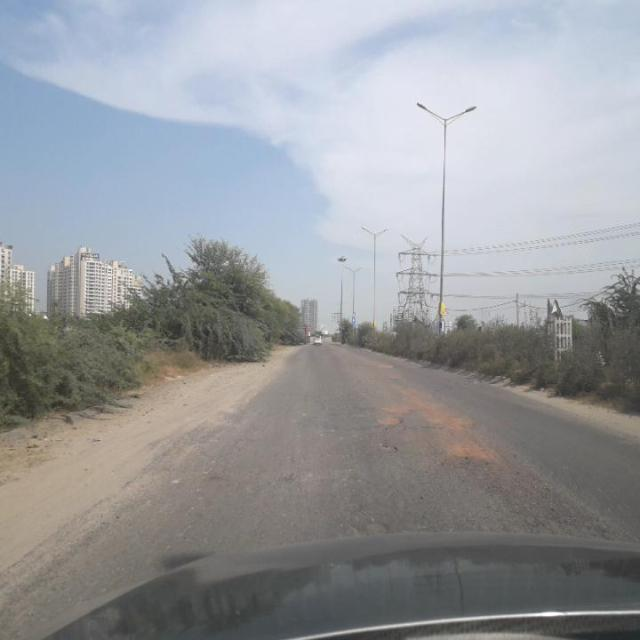Surface Erosion: (314, 362, 528, 542)
